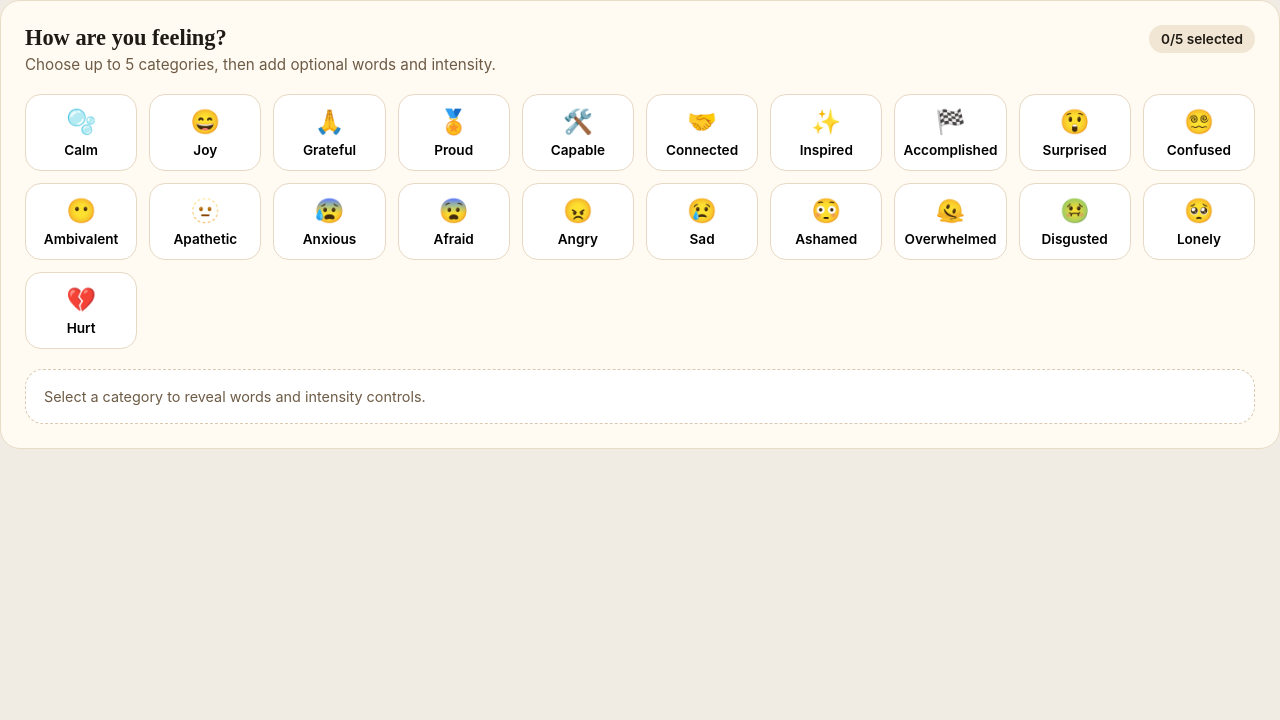
EmotionPicker › enforces the max category cap
The image size is (1280, 720).
Click the button "🫧 Calm": click(81, 132) [25,94,137,171]
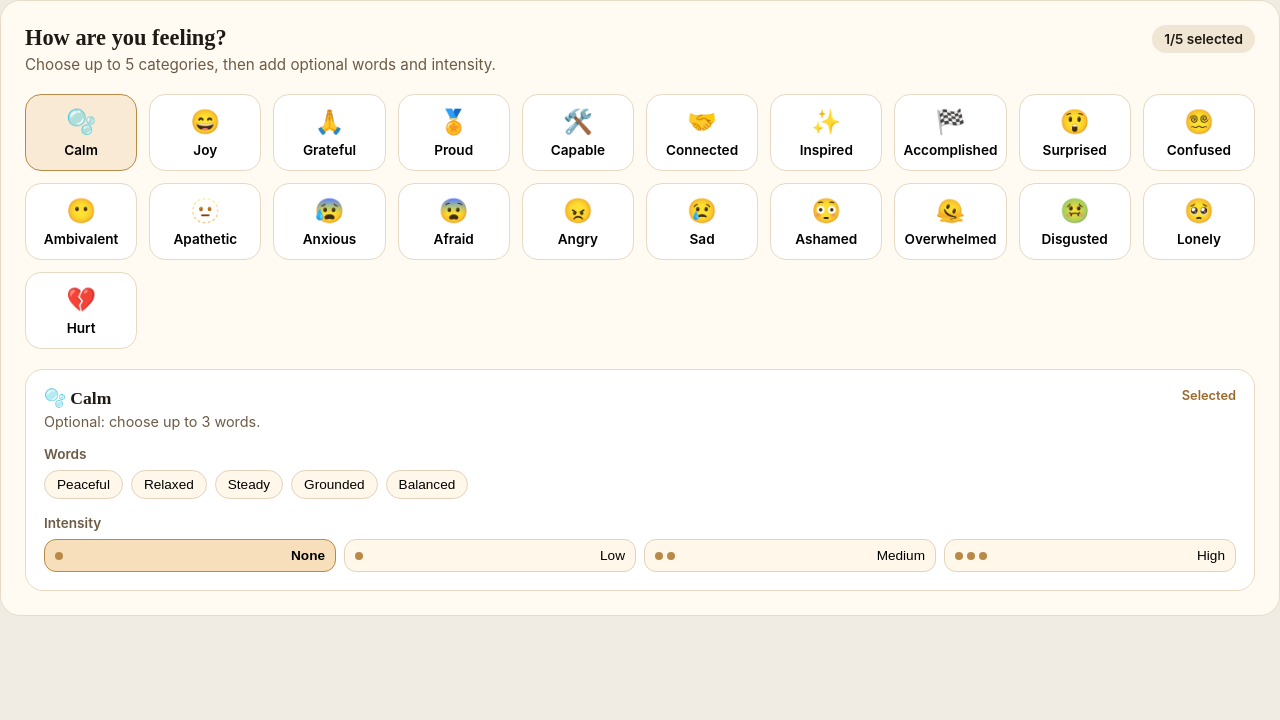
Click the button "😄 Joy": click(205, 132) [149,94,261,171]
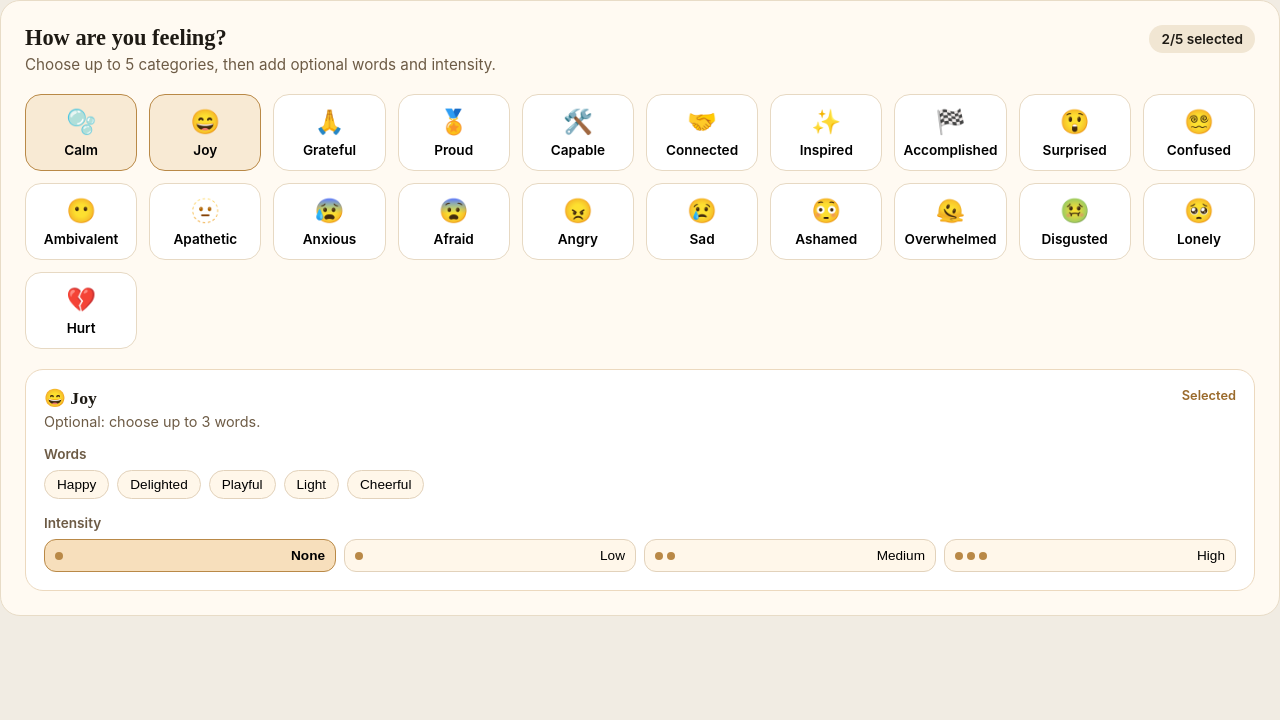
Click the button "🙏 Grateful": click(330, 132) [273,94,386,171]
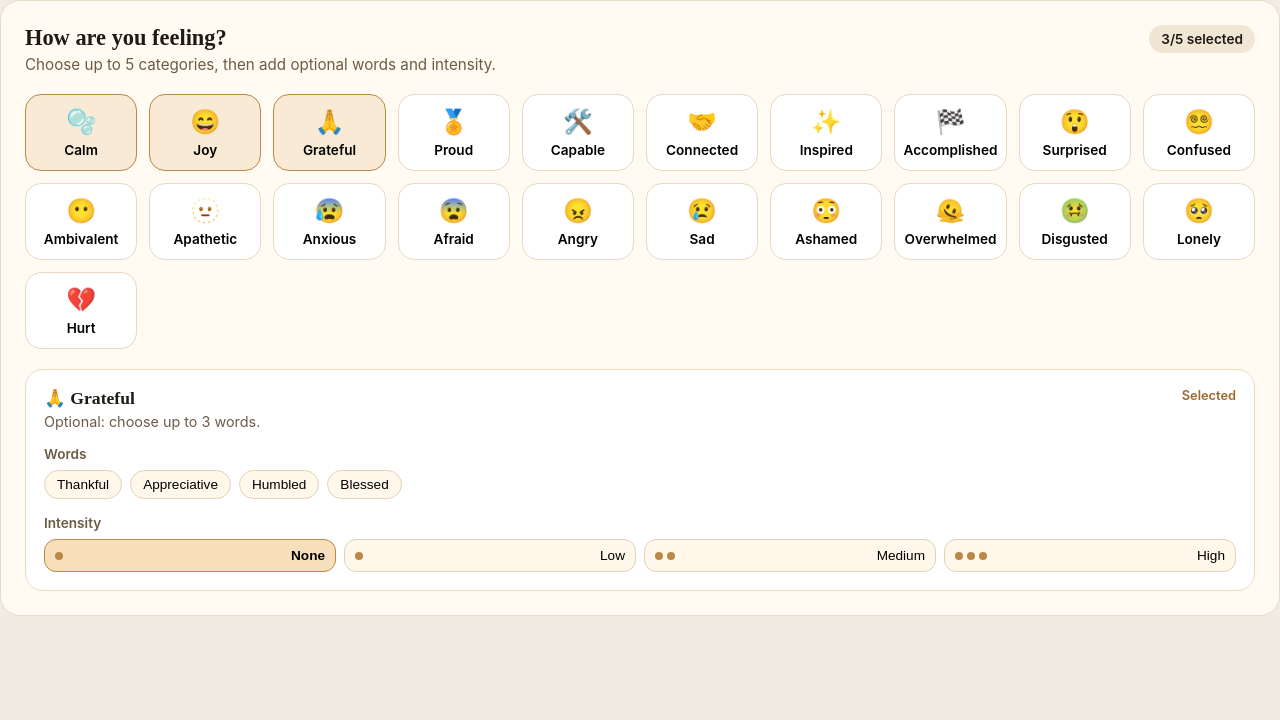
Click the button "🏅 Proud": click(454, 132) [398,94,510,171]
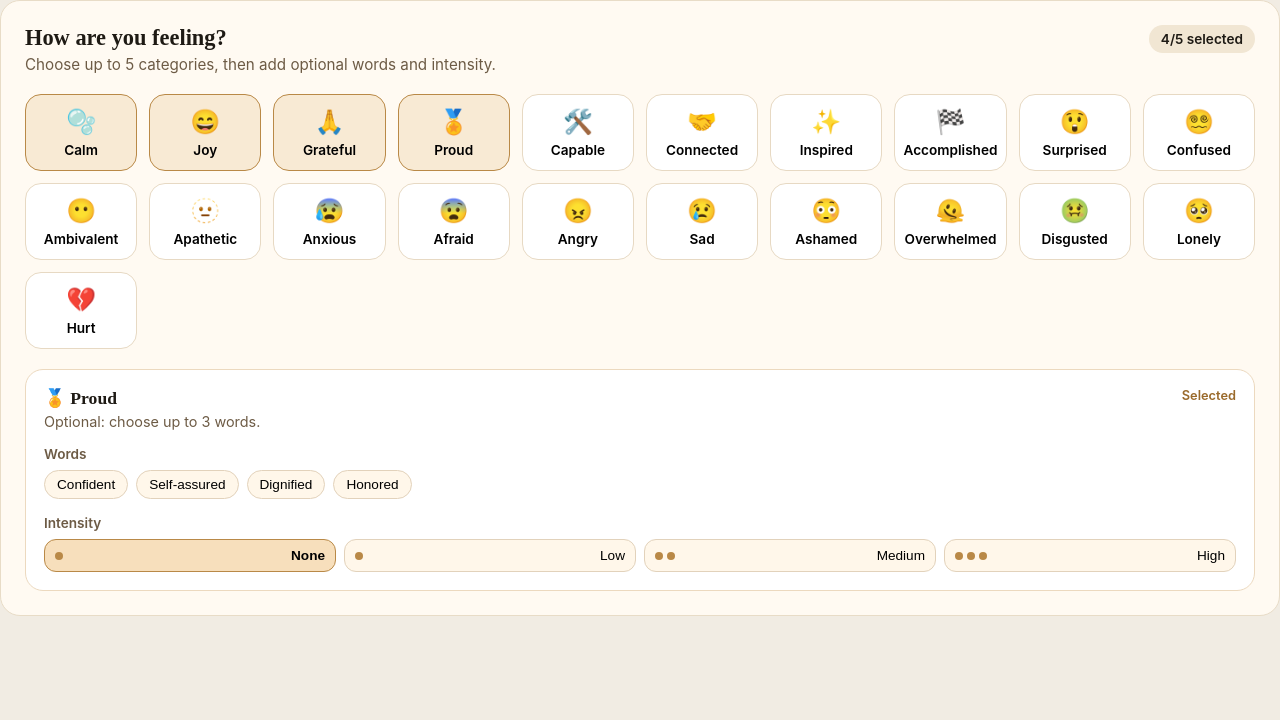
Click the button "🛠️ Capable": click(578, 132) [522,94,634,171]
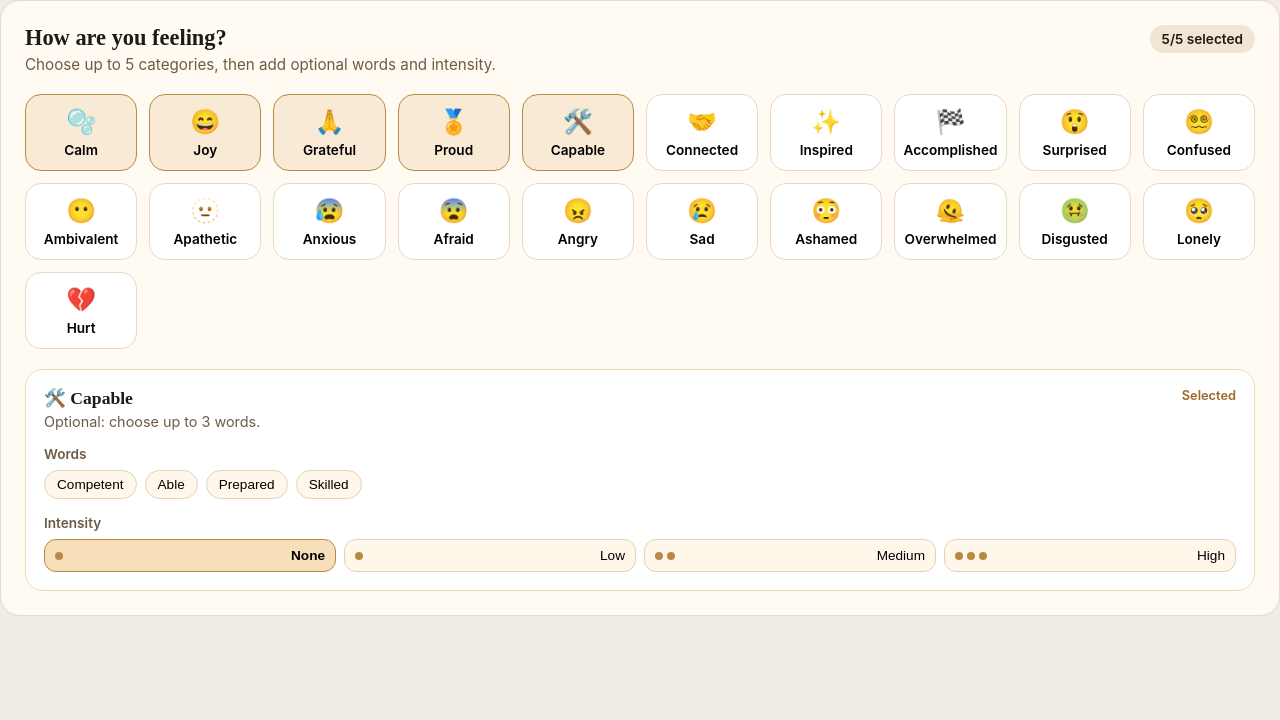
Click the button with aria-label "Connected category": click(702, 132) [646,94,758,171]
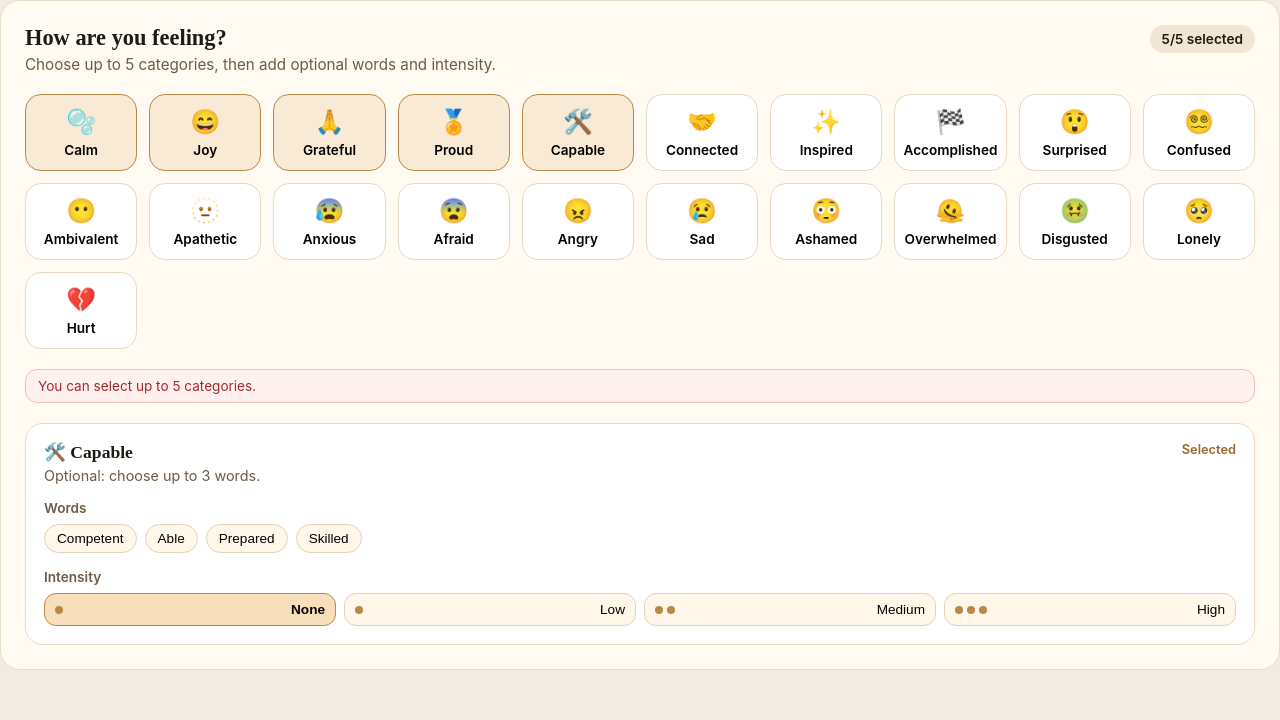
Now the message reads "You can select up to 5 categories.", box [38,378,256,394]
